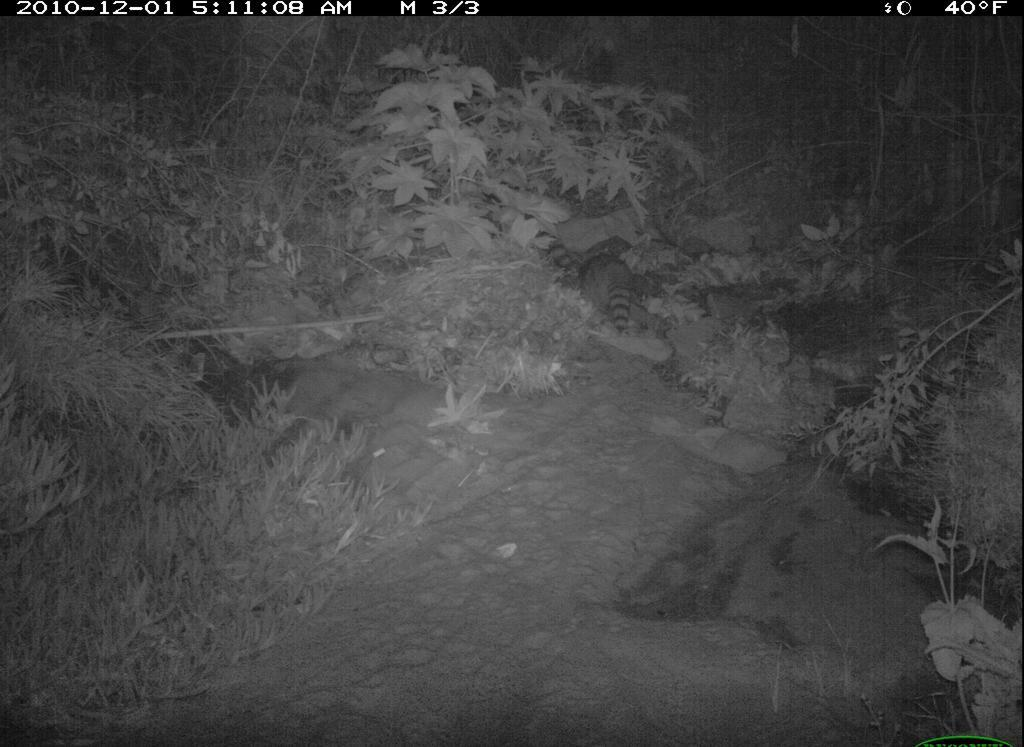raccoon: (578, 244, 647, 338)
